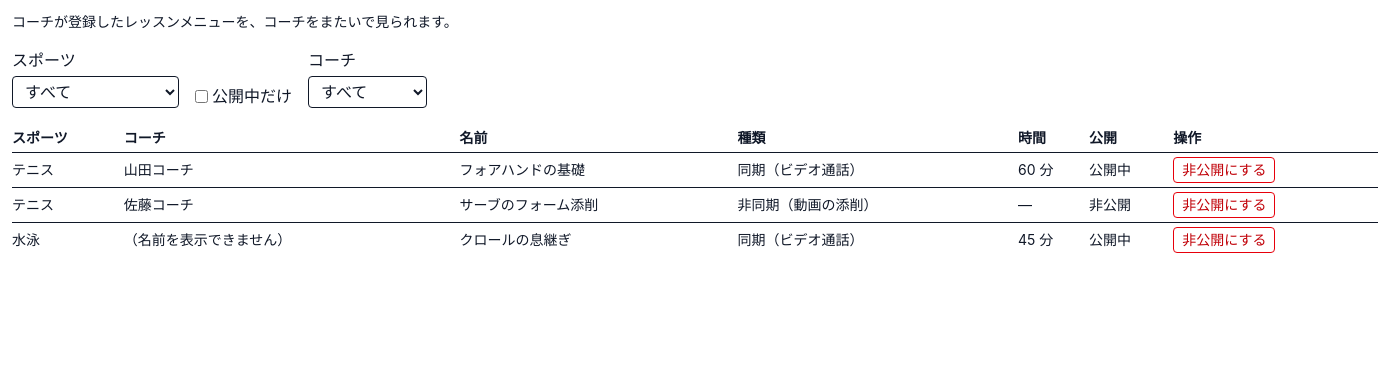
本部がレッスンメニューを非公開にする・公開に戻す › 理由を書かなければ本文を空にして送る
Expected: the table is shown, [12,124,1378,257]
Step 1. Click the button with aria-label "「サーブのフォーム添削」を非公開にする" → (1224, 205), box [1173,192,1275,218]
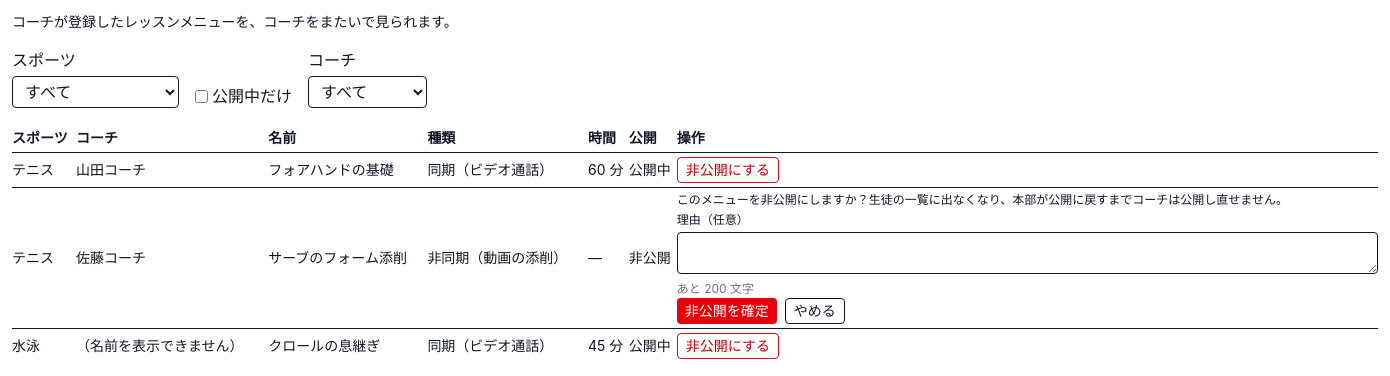
Step 2. Click the button "非公開を確定" → (727, 311), box [677,298,777,324]
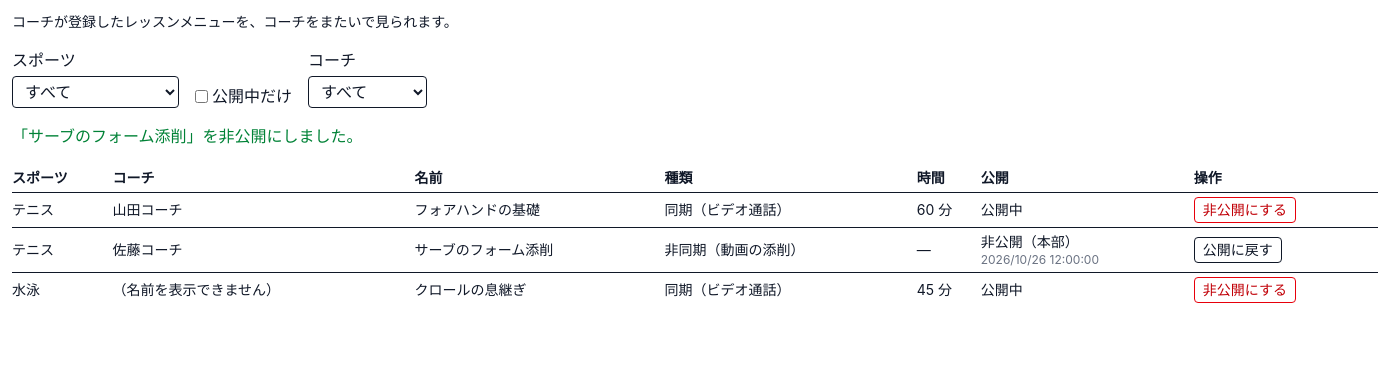
Now the cell "非公開（本部） 2026/10/26 12:00:00" is shown, box [981,228,1194,272]
